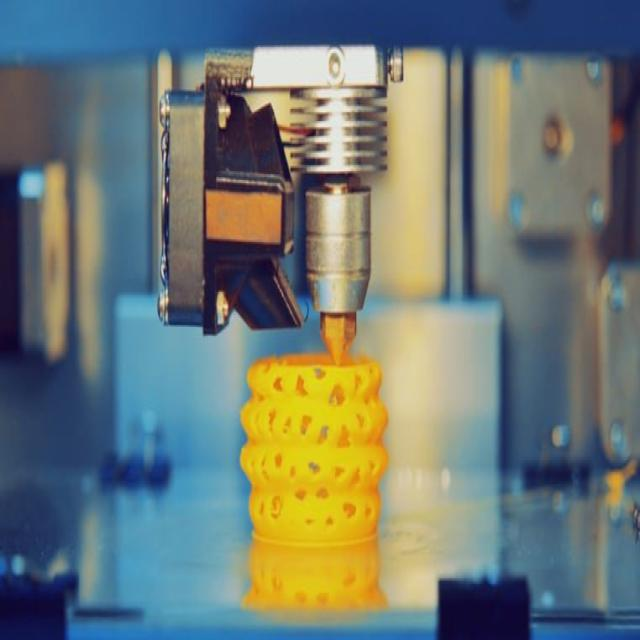Without deffect: (234, 328, 390, 549)
